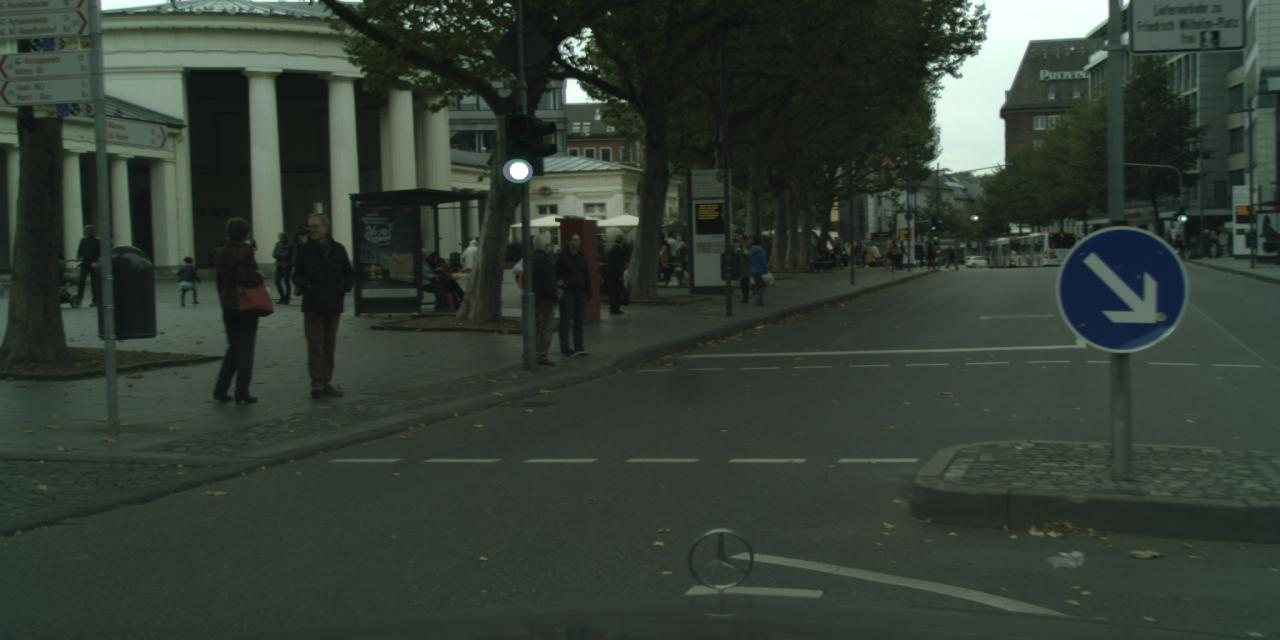ped: (197, 217, 272, 401), (283, 214, 358, 396), (512, 234, 566, 364), (550, 231, 600, 355), (70, 224, 102, 304), (601, 234, 633, 313), (268, 231, 297, 303), (744, 236, 771, 305), (730, 237, 756, 302), (460, 239, 484, 297), (178, 256, 198, 304), (882, 235, 908, 269), (238, 230, 256, 274), (296, 224, 313, 268), (291, 226, 308, 268), (215, 232, 232, 274), (652, 233, 668, 273), (662, 232, 677, 272), (675, 240, 689, 274), (923, 238, 935, 268), (676, 237, 688, 266), (851, 236, 862, 266), (914, 241, 925, 267), (858, 242, 868, 267), (870, 242, 880, 267), (832, 243, 842, 266), (816, 238, 825, 263), (841, 242, 850, 266), (865, 243, 874, 266), (946, 246, 955, 268)
